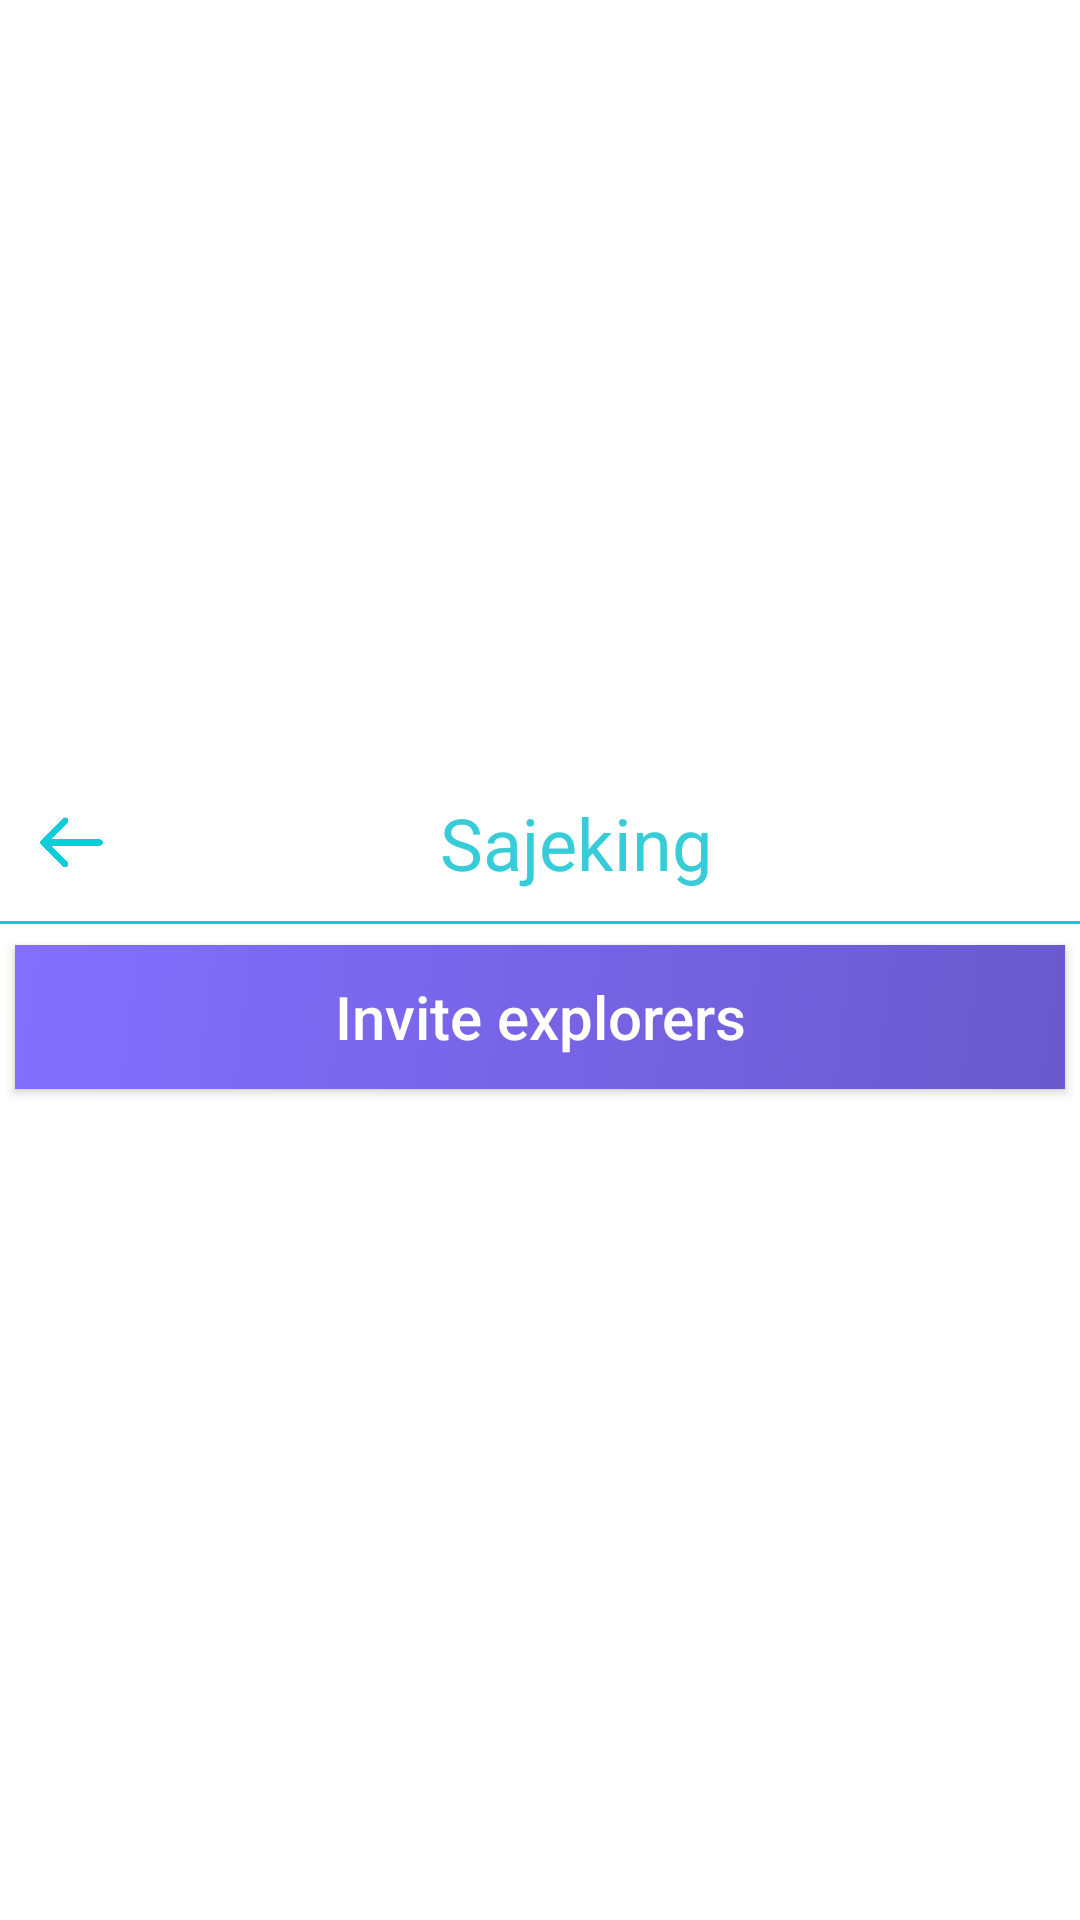

Where to tap for icons on this 1080*1920 app screen, as [x,y]:
back left: [71,842]
